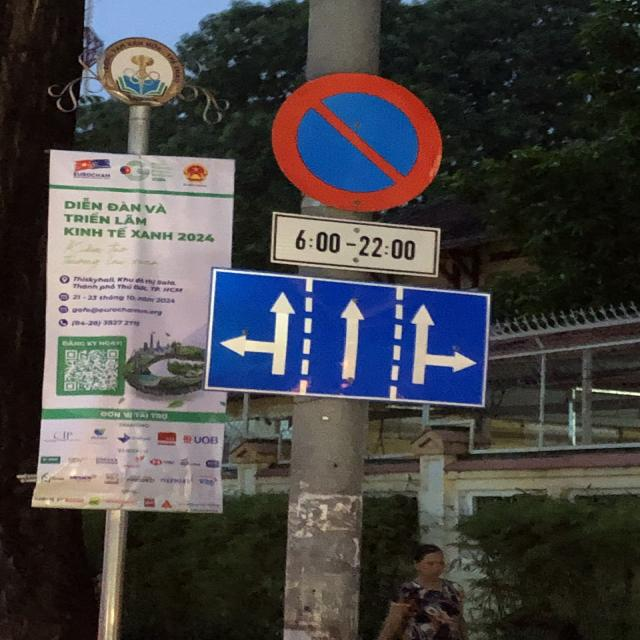Bien bao cam do xe: (259, 59, 452, 217)
